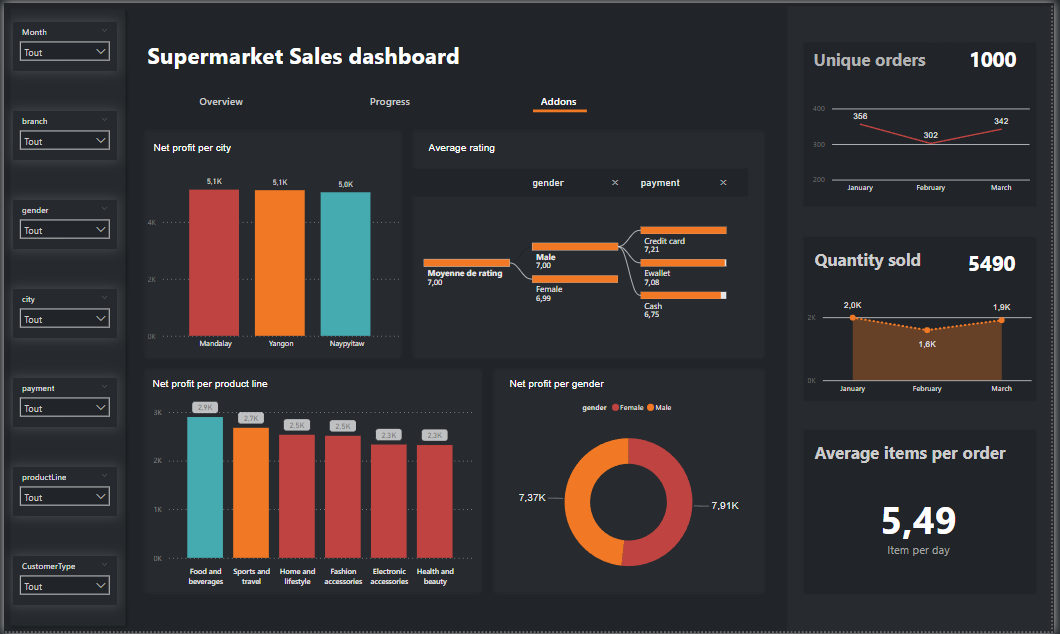

The page's visual inventory and layout, read from the dashboard file:
{"tool":"powerbi","page":{"name":"Addons","canvas":[1500,900],"ordinal":2},"visuals":[{"type":"textbox","box":[200,46.7,473.3,63.3],"z":0},{"type":"pageNavigator","box":[200,110,713.3,60],"z":1000},{"type":"textbox","box":[601.7,191.7,295,40],"z":2000},{"type":"textbox","box":[716.7,528.3,295,40],"z":3000},{"type":"textbox","box":[207.5,528.8,295,40],"z":4000},{"type":"textbox","box":[208.3,191.7,295,40],"z":5000},{"type":"textbox","box":[1152,58,294,52],"z":6000},{"type":"textbox","box":[1153.3,345,295,53.3],"z":7000},{"type":"textbox","box":[1153.3,620,295,50],"z":8000},{"type":"card","fields":{"Values":["Sum(factSales.quantity)"]},"box":[1351.8,354.5,119.1,34.5],"z":9000},{"type":"card","fields":{"Values":["CountNonNull(factSales.branchID)"]},"box":[1354,62,116,40],"z":10000},{"type":"card","fields":{"Values":["Avg(factSales.quantity)"]},"box":[1153.3,665,306.7,163.3],"z":11000},{"type":"clusteredColumnChart","fields":{"Category":["dimCity.city"],"Y":["Sum(factSales.grossIncome)"]},"box":[200,231.7,370,273.3],"z":12000},{"type":"lineClusteredColumnComboChart","fields":{"Category":["dimProductLine.productLine"],"Y":["Sum(factSales.grossIncome)"]},"box":[208.3,558.3,465,283.3],"z":13000},{"type":"donutChart","fields":{"Category":["dimGender.gender"],"Y":["Sum(factSales.grossIncome)"]},"box":[696.7,558.3,390,281.7],"z":14000},{"type":"lineChart","fields":{"Category":["dimDate.DateTime.Variation.Date Hierarchy.Month"],"Y":["CountNonNull(factSales.branchID)"]},"box":[1150,112,320,170],"z":15000},{"type":"areaChart","fields":{"Category":["dimDate.DateTime.Variation.Date Hierarchy.Month"],"Y":["Sum(factSales.quantity)"]},"box":[1143,390,330,178],"z":16000},{"type":"decompositionTreeVisual","fields":{"ExplainBy":["dimGender.gender","dimPayment.payment"],"Analyze":["Avg(factSales.rating)"]},"box":[570,231.7,498.3,271.7],"z":17000},{"type":"slicer","fields":{"Values":["dimDate.DateTime.Variation.Date Hierarchy.Month"]},"box":[12.7,27,148.3,70],"z":18000},{"type":"slicer","fields":{"Values":["dimBranch.branch"]},"box":[12.7,154.2,148.3,70],"z":19000},{"type":"slicer","fields":{"Values":["dimGender.gender"]},"box":[12.7,281.4,148.3,70],"z":20000},{"type":"slicer","fields":{"Values":["dimCity.city"]},"box":[12.7,408.7,148.3,70],"z":21000},{"type":"slicer","fields":{"Values":["dimPayment.payment"]},"box":[12.7,535.9,148.3,70],"z":22000},{"type":"slicer","fields":{"Values":["dimProductLine.productLine"]},"box":[12.7,663.1,148.3,70],"z":23000},{"type":"slicer","fields":{"Values":["dimCustomerType.CustomerType"]},"box":[12.7,790.3,148.3,70],"z":24000},{"type":"shape","box":[755.7,147.1,77.1,14.3],"z":27000}]}

Visuals, with their boxes in screenshot pixels (x1, y1, x2, y2), scaled from the page's 1500x900 canvas onto the 1060x634 screenshot:
textbox: (x1=141, y1=33, x2=476, y2=77)
pageNavigator: (x1=141, y1=77, x2=645, y2=120)
textbox: (x1=425, y1=135, x2=634, y2=163)
textbox: (x1=506, y1=372, x2=715, y2=400)
textbox: (x1=147, y1=373, x2=355, y2=401)
textbox: (x1=147, y1=135, x2=356, y2=163)
textbox: (x1=814, y1=41, x2=1022, y2=77)
textbox: (x1=815, y1=243, x2=1023, y2=281)
textbox: (x1=815, y1=437, x2=1023, y2=472)
card - Sum(factSales.quantity): (x1=955, y1=250, x2=1039, y2=274)
card - CountNonNull(factSales.branchID): (x1=957, y1=44, x2=1039, y2=72)
card - Avg(factSales.quantity): (x1=815, y1=468, x2=1032, y2=583)
clusteredColumnChart - dimCity.city x Sum(factSales.grossIncome): (x1=141, y1=163, x2=403, y2=356)
lineClusteredColumnComboChart - dimProductLine.productLine x Sum(factSales.grossIncome): (x1=147, y1=393, x2=476, y2=593)
donutChart - dimGender.gender x Sum(factSales.grossIncome): (x1=492, y1=393, x2=768, y2=592)
lineChart - dimDate.DateTime.Variation.Date Hierarchy.Month x CountNonNull(factSales.branchID): (x1=813, y1=79, x2=1039, y2=199)
areaChart - dimDate.DateTime.Variation.Date Hierarchy.Month x Sum(factSales.quantity): (x1=808, y1=275, x2=1041, y2=400)
decompositionTreeVisual - dimGender.gender x dimPayment.payment: (x1=403, y1=163, x2=755, y2=355)
slicer - dimDate.DateTime.Variation.Date Hierarchy.Month: (x1=9, y1=19, x2=114, y2=68)
slicer - dimBranch.branch: (x1=9, y1=109, x2=114, y2=158)
slicer - dimGender.gender: (x1=9, y1=198, x2=114, y2=248)
slicer - dimCity.city: (x1=9, y1=288, x2=114, y2=337)
slicer - dimPayment.payment: (x1=9, y1=378, x2=114, y2=427)
slicer - dimProductLine.productLine: (x1=9, y1=467, x2=114, y2=516)
slicer - dimCustomerType.CustomerType: (x1=9, y1=557, x2=114, y2=606)
shape: (x1=534, y1=104, x2=589, y2=114)
